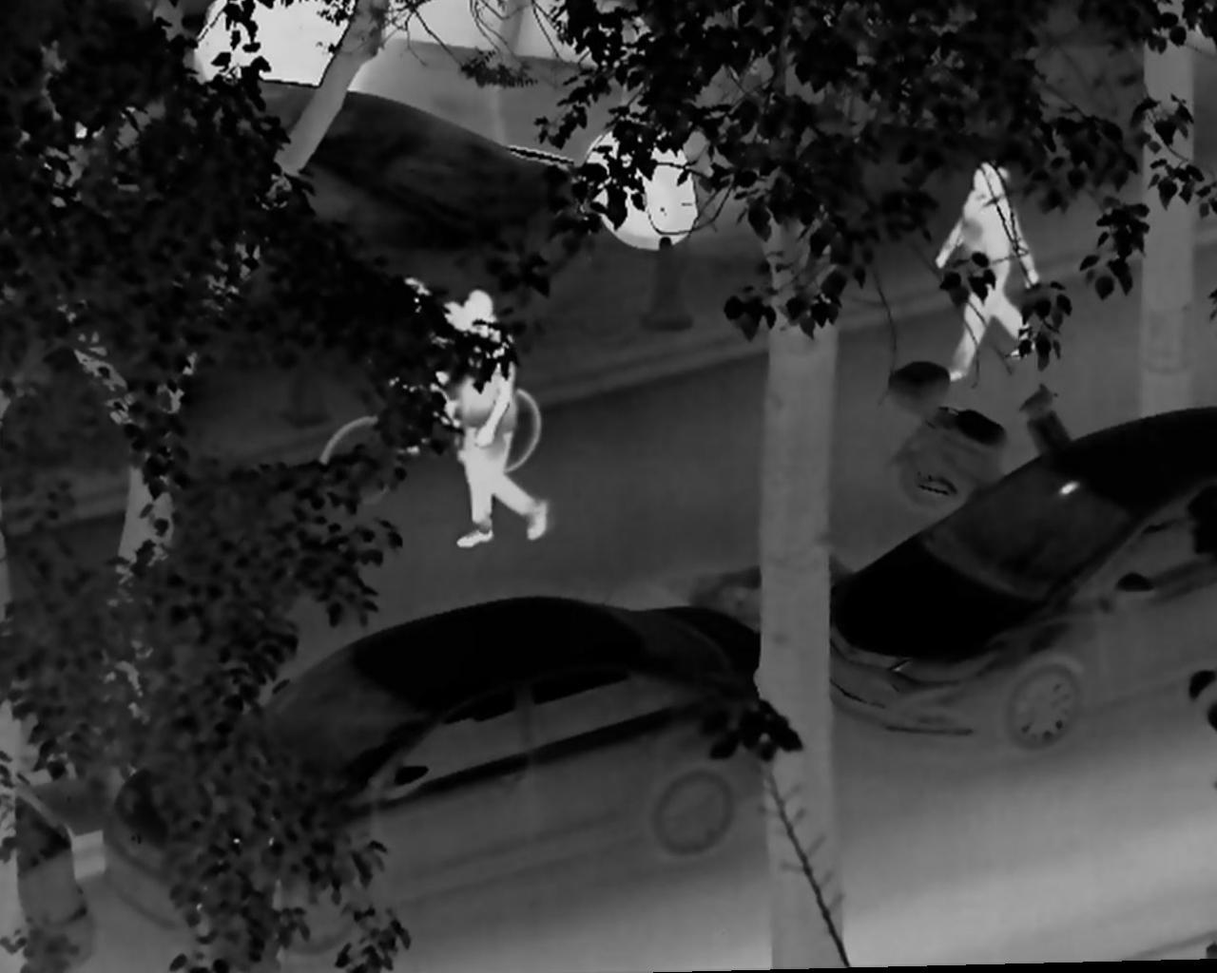person: (439, 291, 551, 551), (935, 159, 1039, 387), (387, 271, 481, 471)
